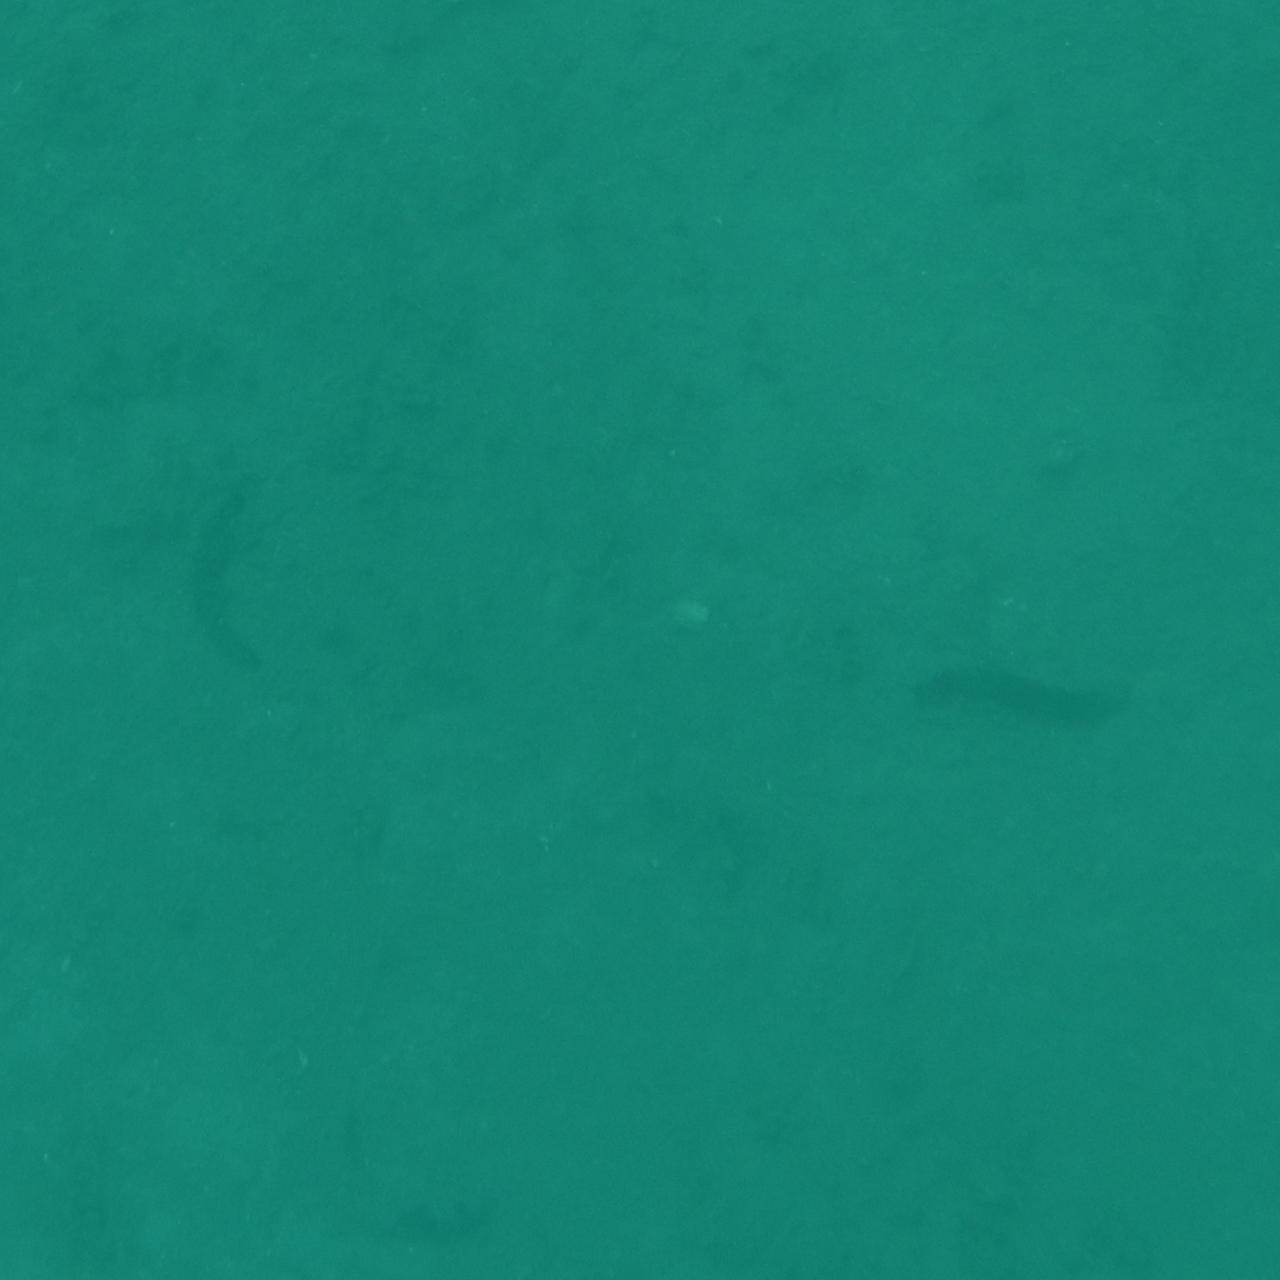Holothuria tubulosa: (905, 639, 1179, 755), (192, 450, 286, 717)
